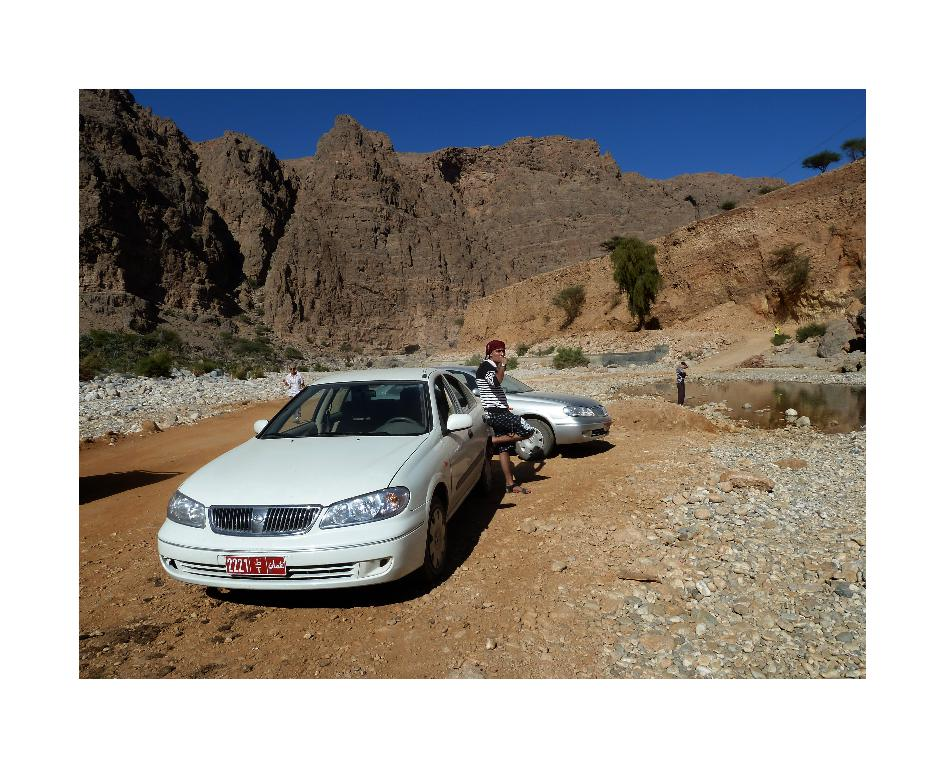Car: (152, 355, 568, 603), (457, 365, 610, 456)
